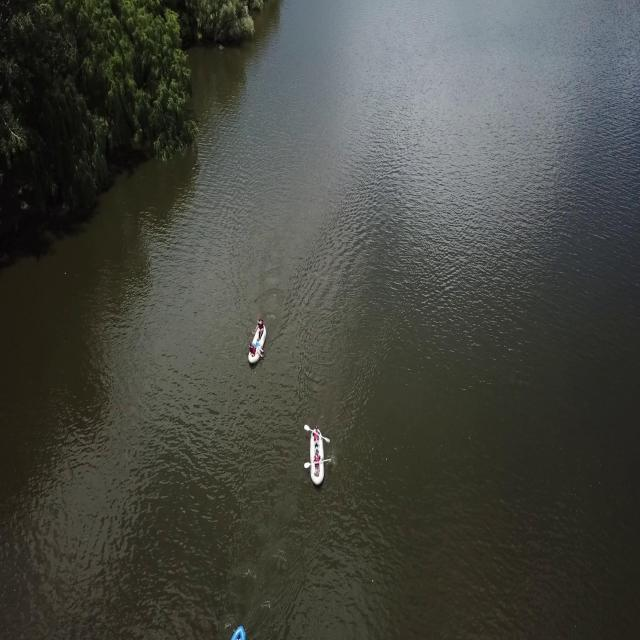kayak: (302, 426, 332, 491), (247, 316, 272, 368)
